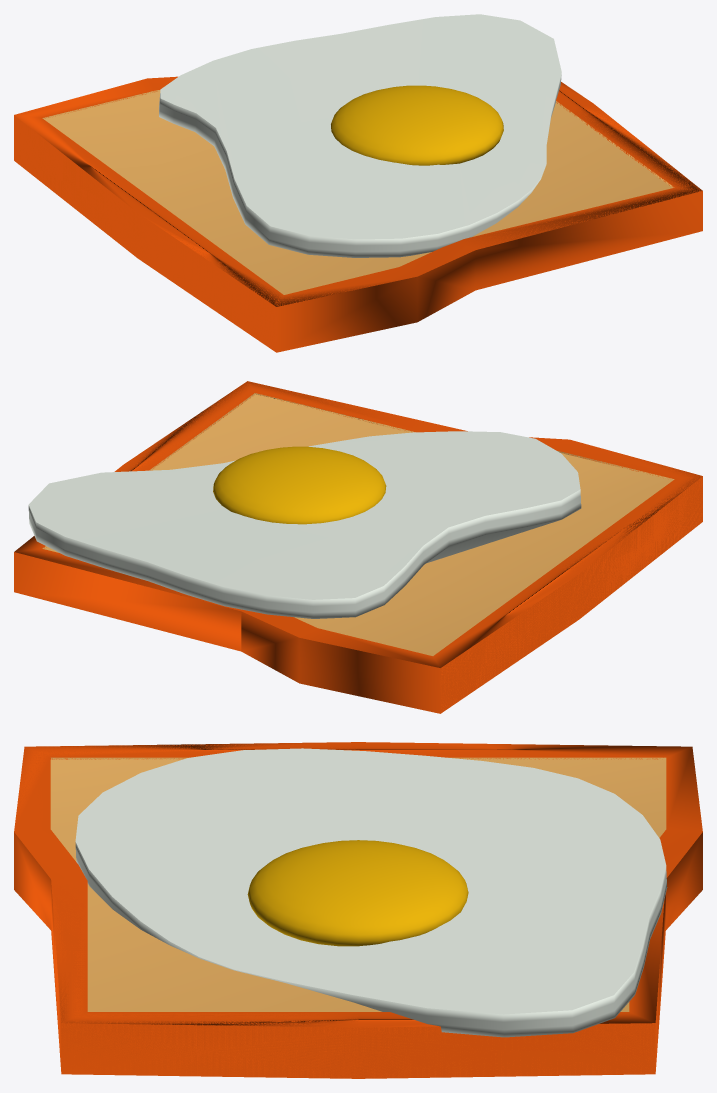
The model's file is roti.glb.
3 views of the same model, one above another, from view 1: azimuth 30°, elevation 25°; view 2: azimuth 150°, elevation 25°; view 3: azimuth 270°, elevation 25° (orthographic). The views are drawn at different scales.
Visible parts, largest first — view 1: Circle, Cube.001, Cube, Sphere; view 2: Circle, Cube.001, Cube, Sphere; view 3: Circle, Cube.001, Cube, Sphere.
Boxes of the visible parts, <box> form: Circle: <box>159,14,561,257</box>; Cube.001: <box>14,76,702,352</box>; Cube: <box>42,90,674,294</box>; Sphere: <box>331,85,503,165</box>; Circle: <box>28,431,581,618</box>; Cube.001: <box>14,381,702,713</box>; Cube: <box>42,393,674,655</box>; Sphere: <box>213,446,386,524</box>; Circle: <box>75,748,667,1037</box>; Cube.001: <box>14,742,702,1078</box>; Cube: <box>50,757,666,1011</box>; Sphere: <box>247,840,468,946</box>.
Size of the model in its own units: 2.26 by 0.3921 by 2.24.
